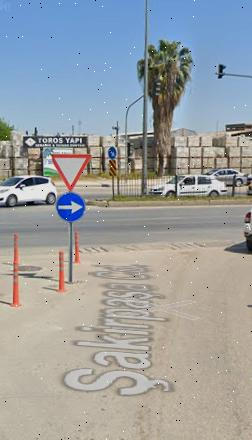turnleft: (54, 192, 86, 222)
